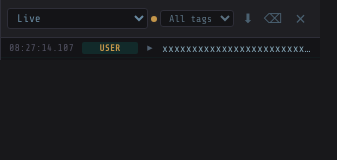
long single-line entry — collapsible › clicking toggle again re-collapses
Click the button with class "log-entry-toggle": (150, 48) 143,43 -> 157,53
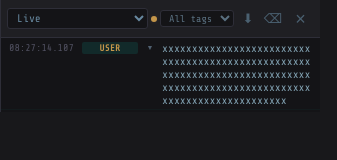
Click the button with class "log-entry-toggle": (150, 48) 143,43 -> 157,53
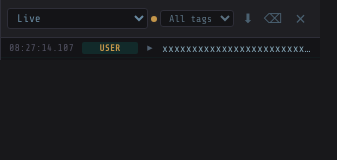
Expected: the button with class "log-entry-toggle" reads "▶", 143,43 -> 157,53
Expected: the text with class "log-message-collapsed" is shown, 162,42 -> 312,55
